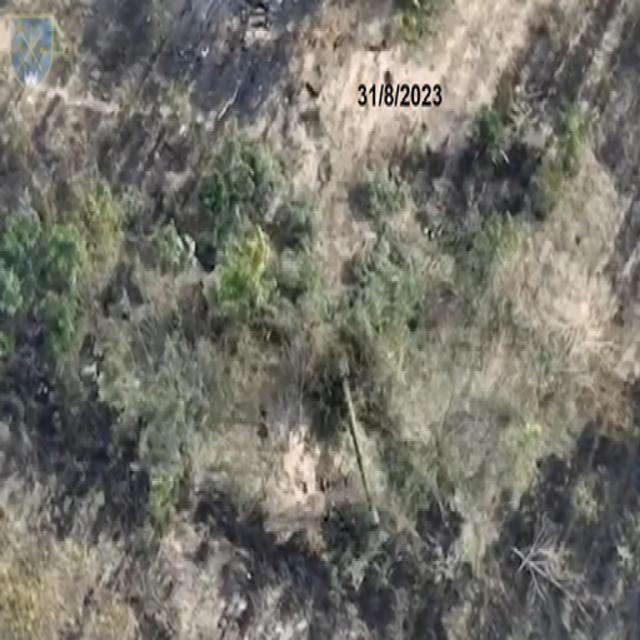ART: (311, 320, 390, 531)
